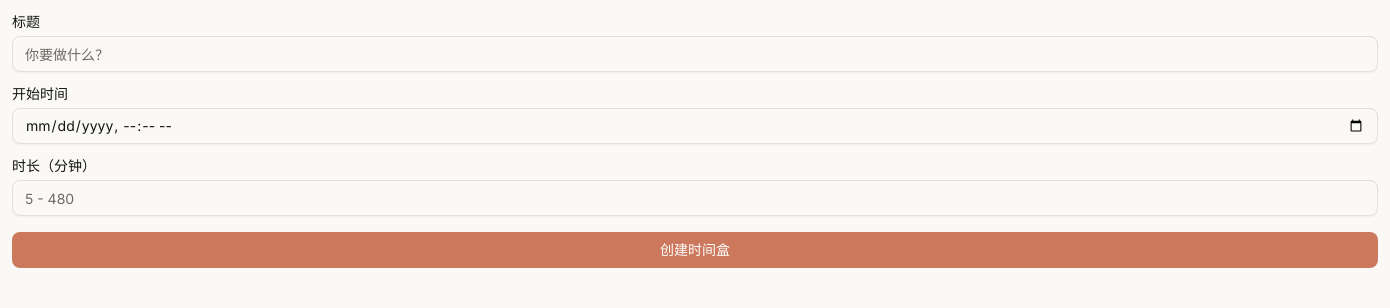
IntentForm › 空开始时间时显示验证错误
Type "测试" into the field labelled "标题" at (695, 54), box [12, 36, 1378, 72]
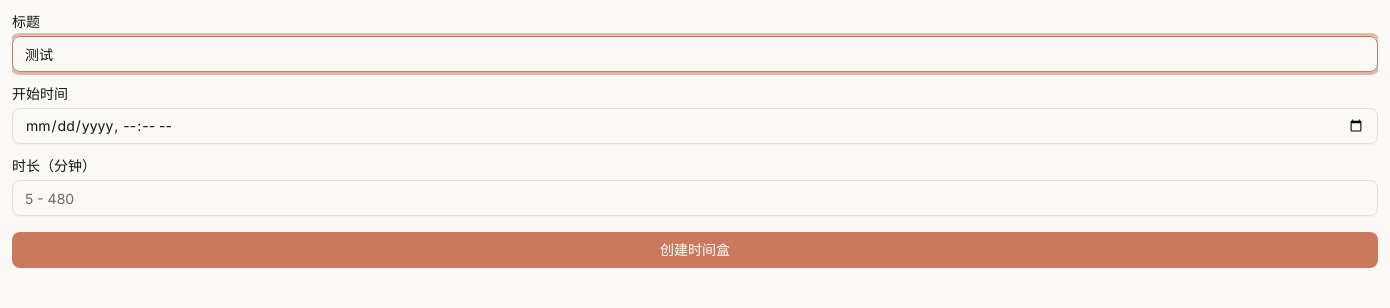
Type "60" into the number field labelled "时长（分钟）" at (695, 198), box [12, 180, 1378, 216]
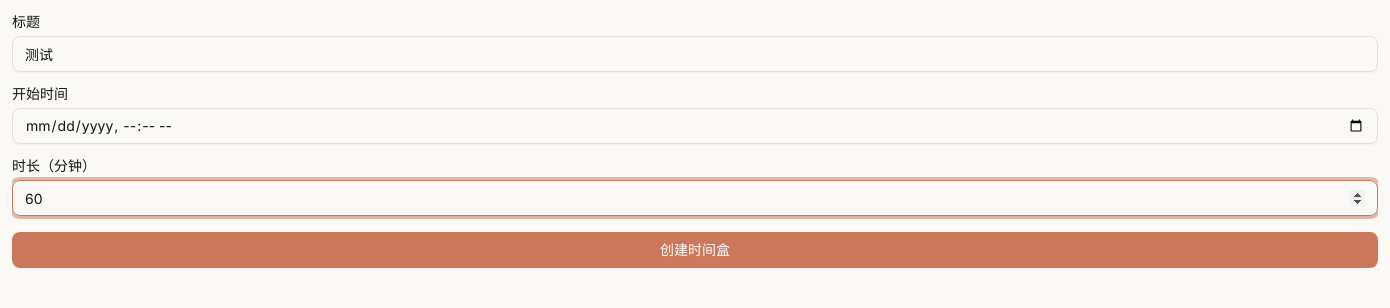
Click the button "创建时间盒" at (695, 250), box [12, 232, 1378, 268]
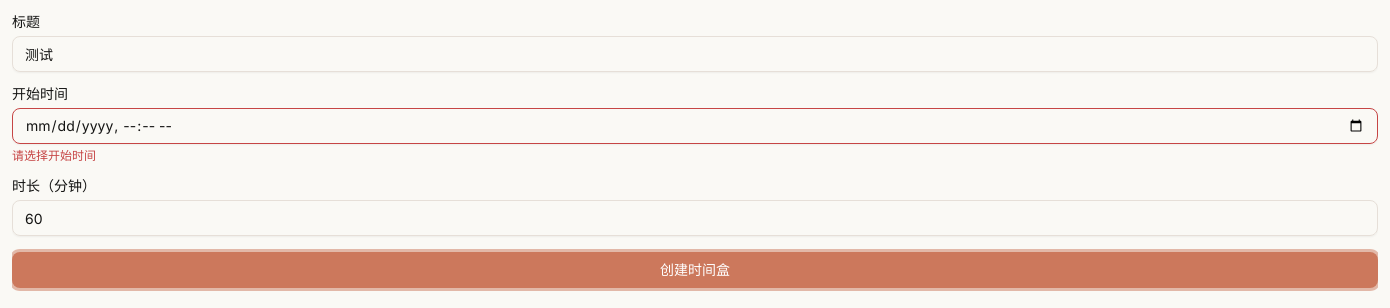
Result: the text "请选择开始时间" is shown at [12, 148, 96, 163]
